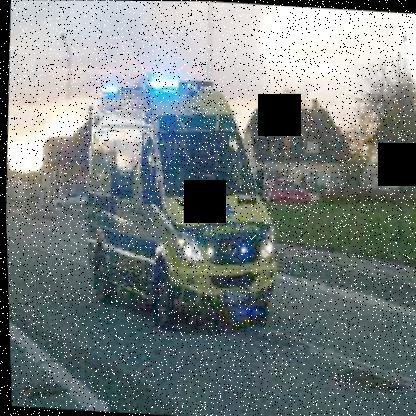emergency: (30, 63, 308, 344)
